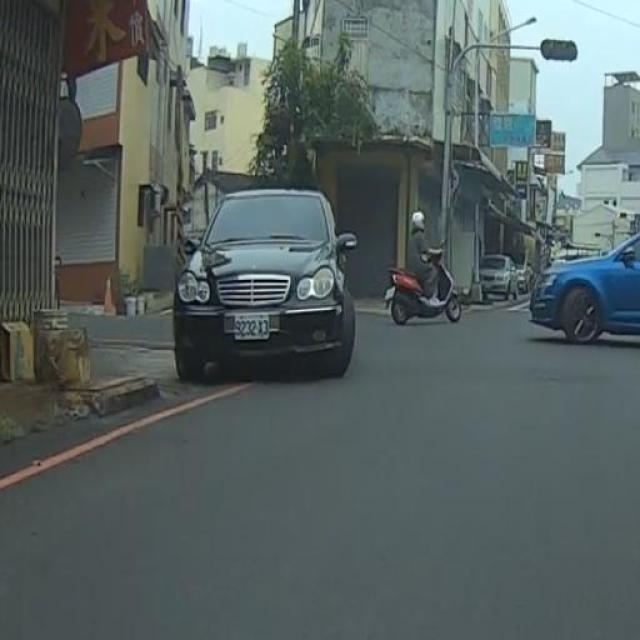illegalparking: (174, 189, 355, 378), (531, 234, 639, 342)
